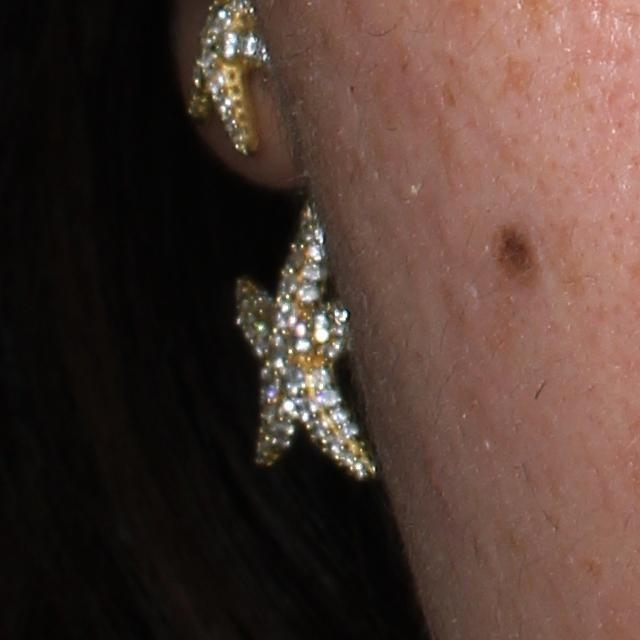nevus: (484, 219, 543, 281)
